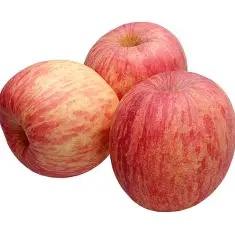ripe_apple: (109, 72, 232, 212), (3, 59, 119, 178), (85, 21, 187, 100), (84, 21, 188, 98)
